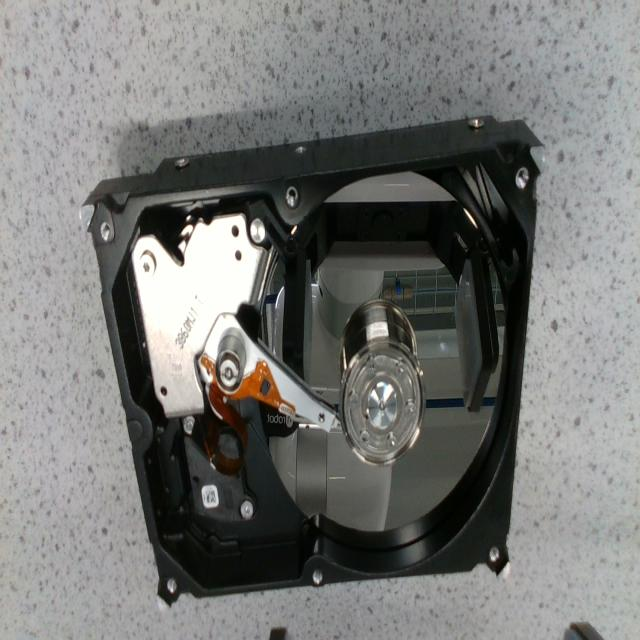actuator arm: (196, 314, 336, 430)
case: (81, 116, 544, 604)
magnet: (132, 213, 269, 417)
pcb connector: (184, 439, 252, 521)
platter: (253, 171, 512, 552)
platter holder: (340, 340, 424, 464)
screw: (140, 252, 155, 276), (396, 358, 407, 380), (182, 416, 194, 436), (387, 433, 399, 453), (366, 355, 378, 375), (240, 500, 254, 517), (406, 402, 417, 423), (359, 430, 371, 447), (349, 392, 359, 410)
